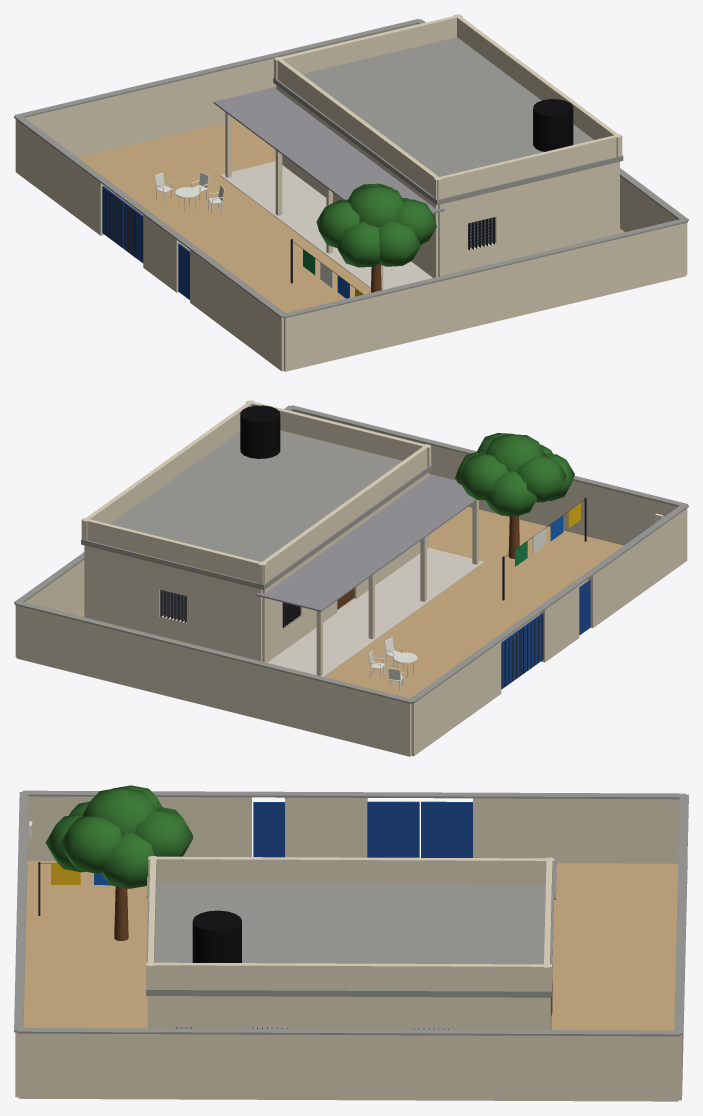
File: lieu_maison.glb
3 renders of one model, top to bottom at view 1: azimuth 30°, elevation 25°; view 2: azimuth 150°, elevation 25°; view 3: azimuth 270°, elevation 25°, orthographic. The views are drawn at different scales.
Visible parts, largest first — view 1: maison_structure-col, maison_details, maison_manguier_feuillage, porte_battante_portail_g_vantail, maison_meubles-col, porte_battante_portail_d_vantail, maison_deco, porte_battante_portillon_vantail; view 2: maison_structure-col, maison_details, maison_manguier_feuillage, porte_battante_portail_d_vantail, porte_battante_portail_g_vantail, maison_meubles-col, maison_deco, porte_battante_portillon_vantail; view 3: maison_structure-col, maison_details, maison_manguier_feuillage, porte_battante_portail_d_vantail, porte_battante_portail_g_vantail, porte_battante_portillon_vantail, maison_manguier-col, maison_deco.
Part boxes in pixels (box(x1,y1,x2,y2)): maison_structure-col: box(15, 14, 687, 371); maison_details: box(14, 19, 688, 318); maison_manguier_feuillage: box(316, 183, 436, 267); porte_battante_portail_g_vantail: box(102, 186, 124, 248); maison_meubles-col: box(154, 172, 224, 213); porte_battante_portail_d_vantail: box(124, 202, 143, 263); maison_deco: box(303, 249, 363, 298); porte_battante_portillon_vantail: box(178, 243, 189, 299); maison_structure-col: box(15, 400, 687, 756); maison_details: box(14, 405, 688, 703); maison_manguier_feuillage: box(455, 433, 574, 516); porte_battante_portail_d_vantail: box(520, 613, 543, 674); porte_battante_portail_g_vantail: box(501, 629, 521, 689); maison_meubles-col: box(368, 637, 417, 690); maison_deco: box(515, 503, 580, 566); porte_battante_portillon_vantail: box(579, 580, 590, 635); maison_structure-col: box(15, 796, 687, 1101); maison_details: box(14, 790, 688, 1036); maison_manguier_feuillage: box(45, 785, 193, 888); porte_battante_portail_d_vantail: box(367, 801, 419, 857); porte_battante_portail_g_vantail: box(421, 801, 472, 857); porte_battante_portillon_vantail: box(253, 802, 284, 857); maison_manguier-col: box(114, 886, 128, 940); maison_deco: box(51, 864, 110, 885).
Bounding box in the file's own units: 17.48 × 4.94 × 20.45.
